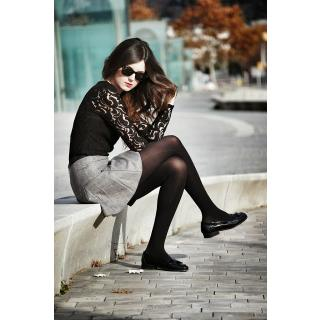loafers: (193, 206, 250, 242), (138, 247, 190, 273)
